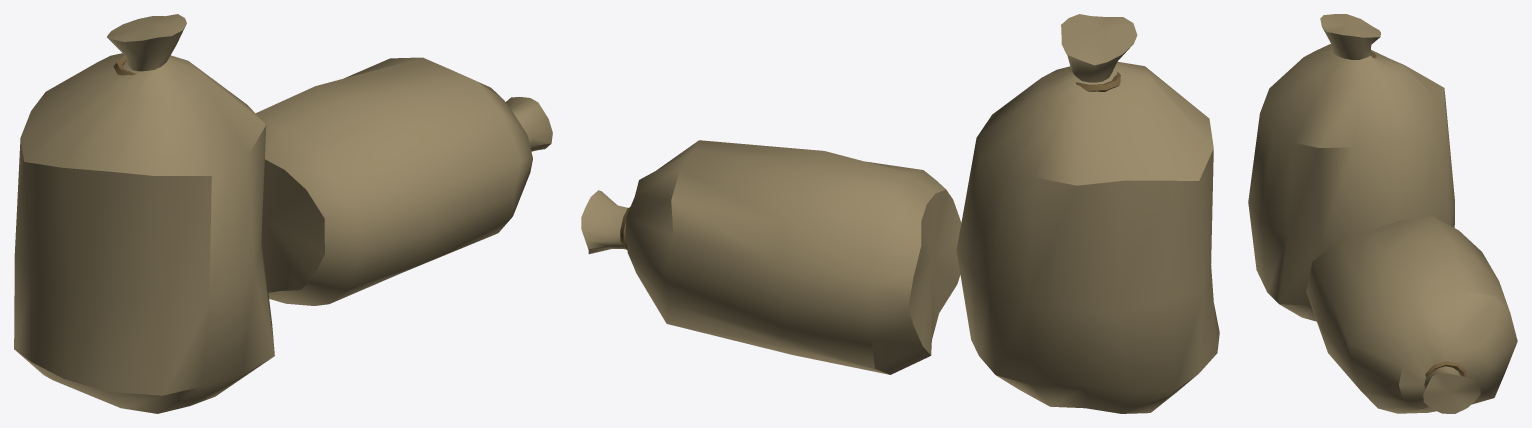
Rendered from mehlsack.glb.
The picture shows the model from 3 angles, left to right: view 1: azimuth 30°, elevation 25°; view 2: azimuth 150°, elevation 25°; view 3: azimuth 270°, elevation 25°; orthographic projection. The views are drawn at different scales.
Parts seen in each view (by area): view 1: mehlsack; view 2: mehlsack; view 3: mehlsack.
Part boxes in pixels (left/top/right/bottom): mehlsack: left=14, top=14, right=552, bottom=413; mehlsack: left=581, top=14, right=1219, bottom=413; mehlsack: left=1248, top=14, right=1517, bottom=413.
Size of the model in its own units: 1.08 by 0.6441 by 0.5674.
